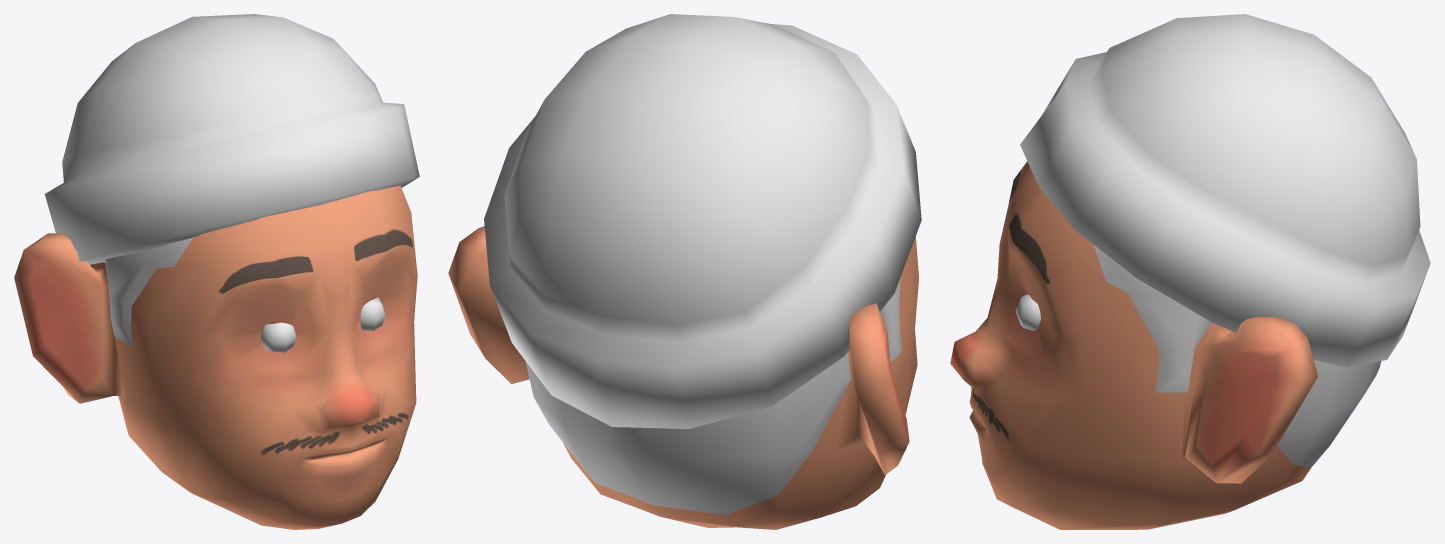
File: avatar.glb
3 renders of one model, left to right at view 1: azimuth 30°, elevation 25°; view 2: azimuth 150°, elevation 25°; view 3: azimuth 270°, elevation 25°, orthographic. The views are drawn at different scales.
Parts seen in each view (by area): view 1: head, beanie, hair, eye; view 2: beanie, head, hair; view 3: beanie, head, hair, eye.
Boxes of the visible parts, x1,y1,x2,y2 form: head: [14, 185, 417, 529]; beanie: [44, 14, 419, 264]; hair: [90, 187, 401, 346]; eye: [260, 297, 385, 352]; beanie: [484, 14, 921, 428]; head: [448, 226, 918, 529]; hair: [525, 278, 901, 514]; beanie: [1020, 14, 1430, 367]; head: [950, 161, 1317, 529]; hair: [1093, 244, 1381, 467]; eye: [1015, 294, 1040, 330].
Bounding box in the file's own units: 1.27 × 1.41 × 1.27.
Materials: 1 (1 with a texture image).
